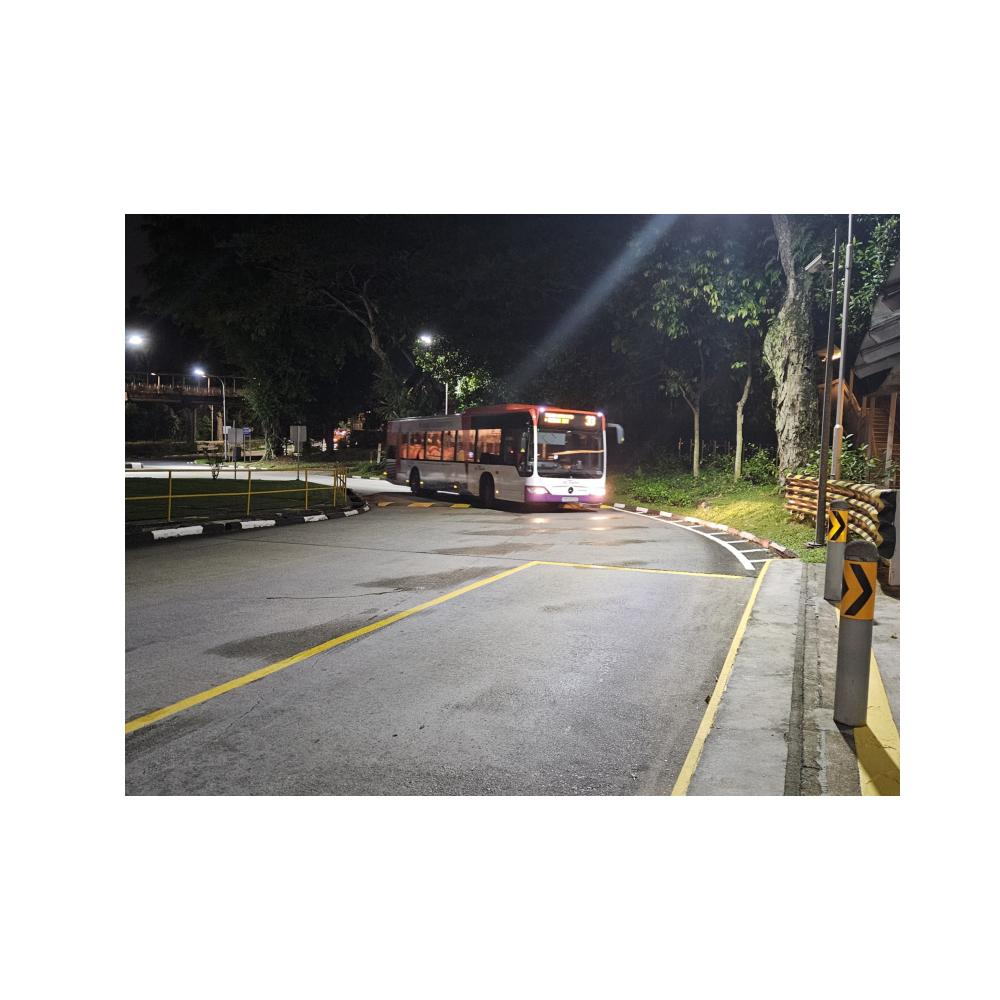bus: (376, 397, 626, 513)
